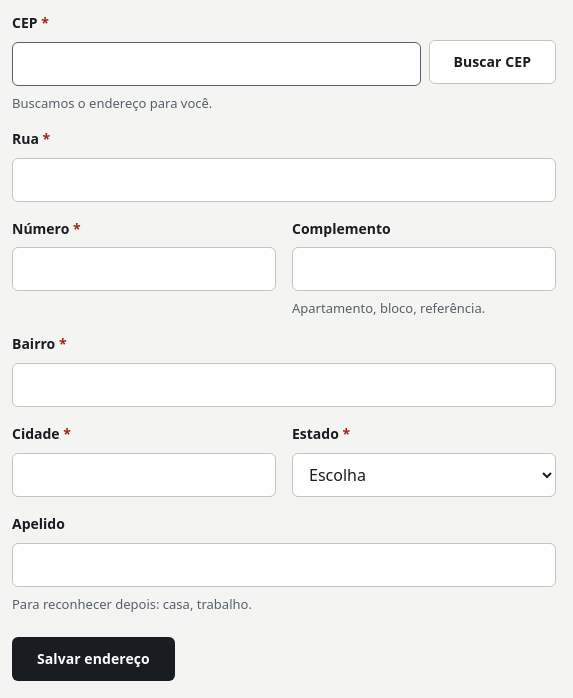
Test: FormularioDeEndereco › preenche o endereço com o que o provedor devolveu
The width and height of the screenshot is (573, 698).
Type "01001000" into the field labelled "CEP *". click: (216, 64)
box: [12,42,420,86]
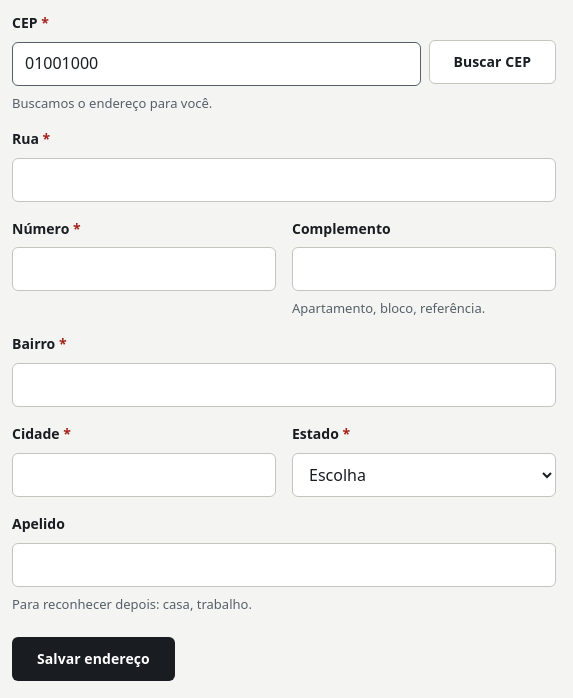
Click the button "Buscar CEP". click: (492, 62)
box: [428,40,556,84]
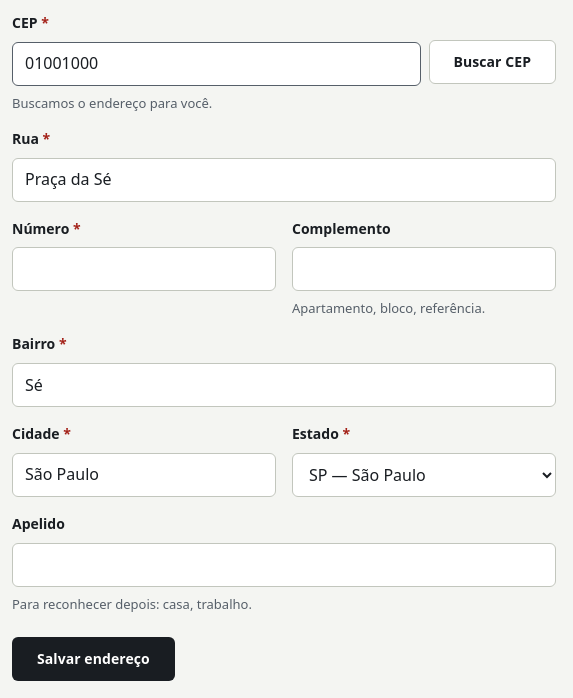
Now the dropdown labelled "Estado *" shows "SP — São Paulo", box [292,453,556,497]
